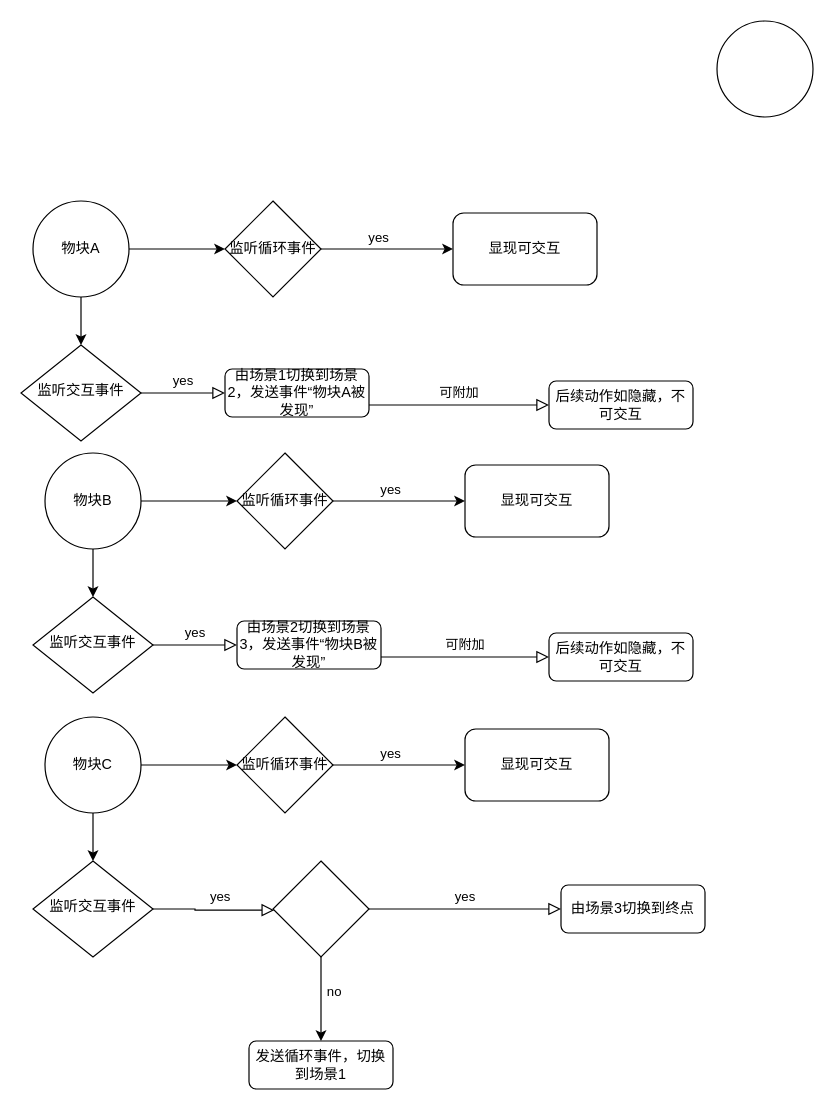
This 834x1110 diagram has some shape labels left out. The shapes that lost their labels are listed below. From the top down, each one's centre as x and y in pixels, then its label:
At (x=764, y=68): "玩家A".
At (x=320, y=908): "判断是否触发了事件A,事件B".
